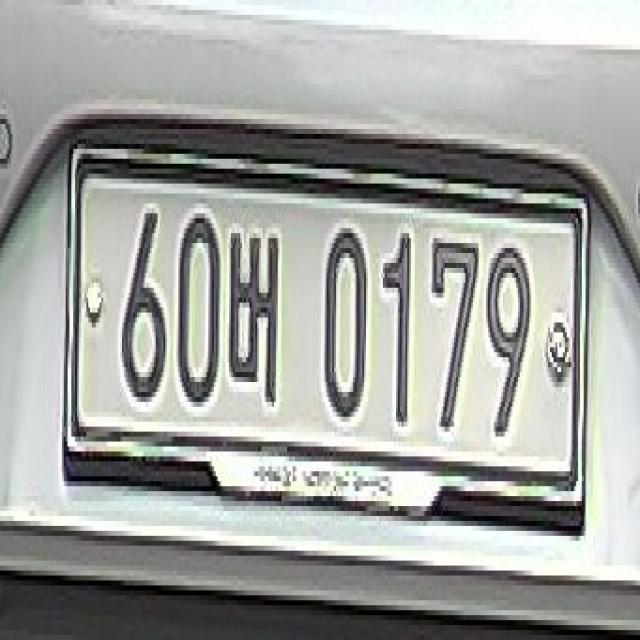0: (172, 192, 224, 412), (320, 204, 370, 424)
1: (373, 211, 416, 431)
6: (114, 188, 170, 408)
7: (422, 215, 479, 428)
9: (484, 222, 534, 444)
beo: (225, 195, 284, 415)
license_plate: (48, 98, 604, 567)
